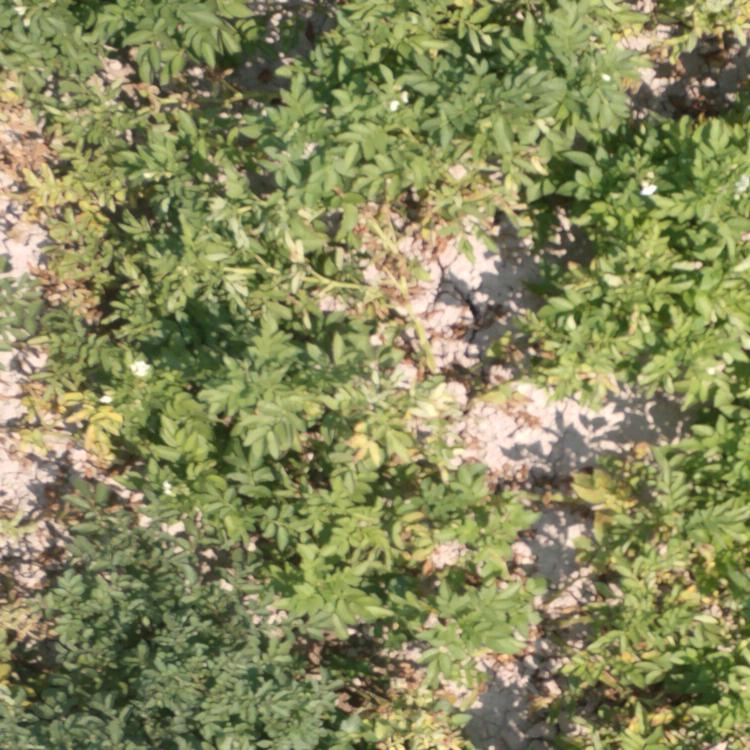healthy: (132, 1, 334, 481), (18, 486, 325, 750), (598, 6, 739, 402), (344, 1, 575, 214), (353, 464, 507, 648), (346, 220, 430, 441), (511, 264, 597, 377)
stressed: (533, 412, 745, 750), (1, 1, 126, 477), (345, 660, 501, 750)
